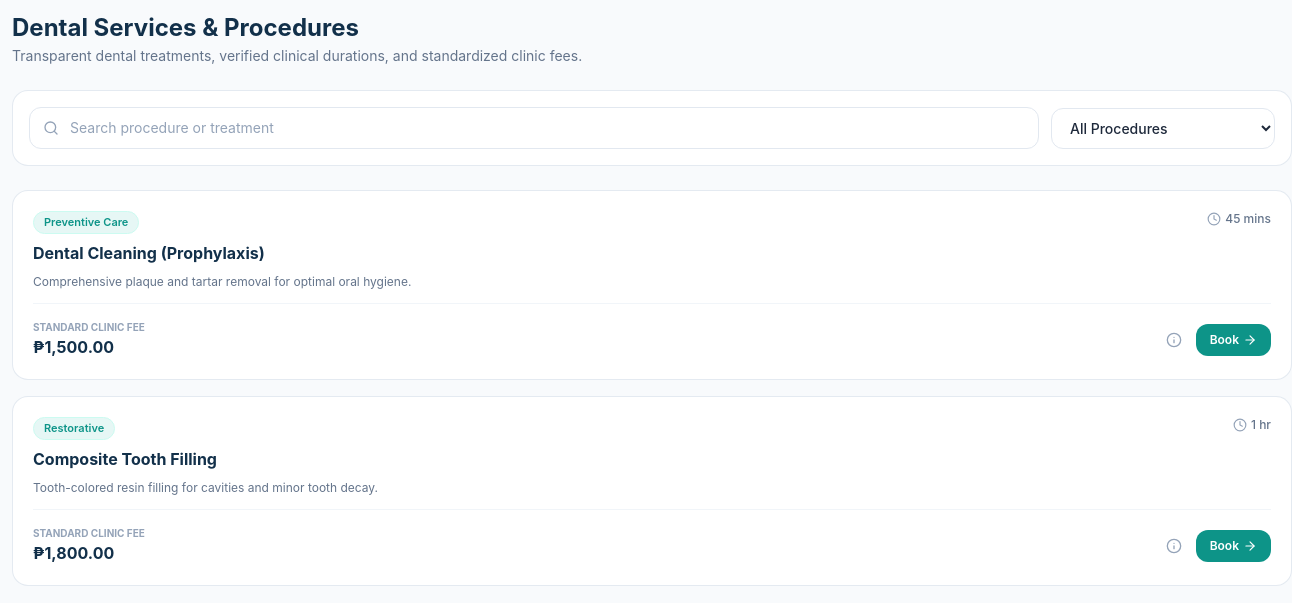
it: PatientServicesPage Component › filters services by search query
The image size is (1292, 603).
Expected: the heading "Dental Cleaning (Prophylaxis)" is shown, [33,242,265,262]
Type "Filling" into the field with placeholder "Search procedure or treatment".
click(534, 128); type("Filling")  # box [29,107,1039,149]
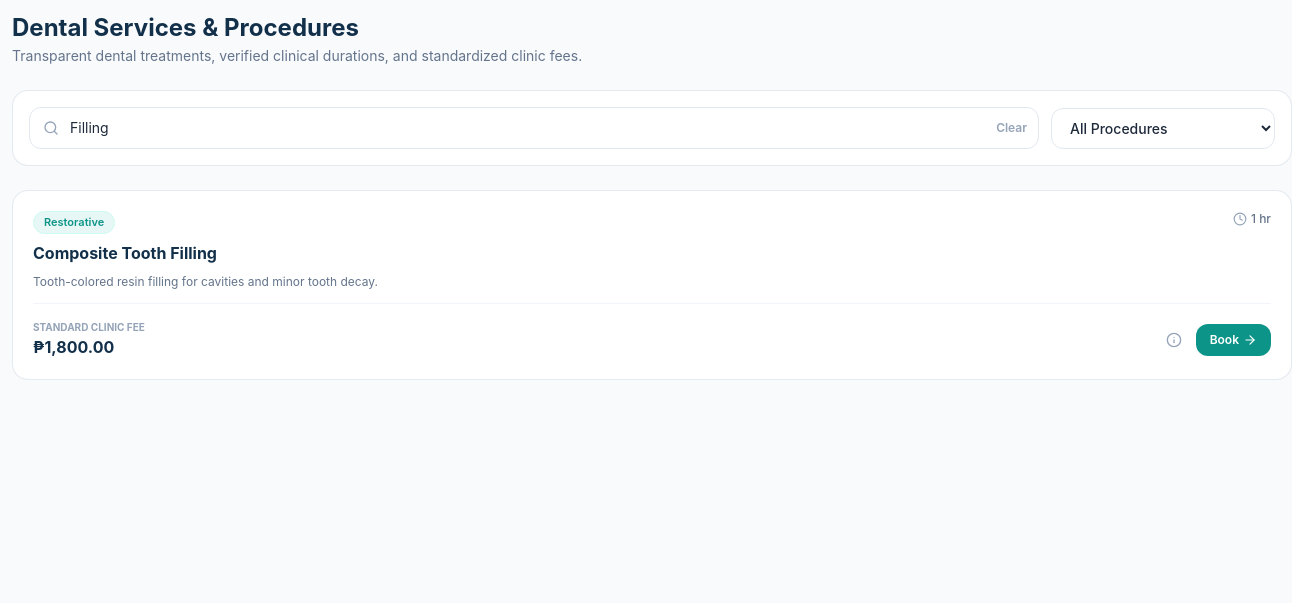
Expected: the heading "Composite Tooth Filling" is shown, [33,242,217,262]
Expected: the heading "Dental Cleaning (Prophylaxis)" is gone
